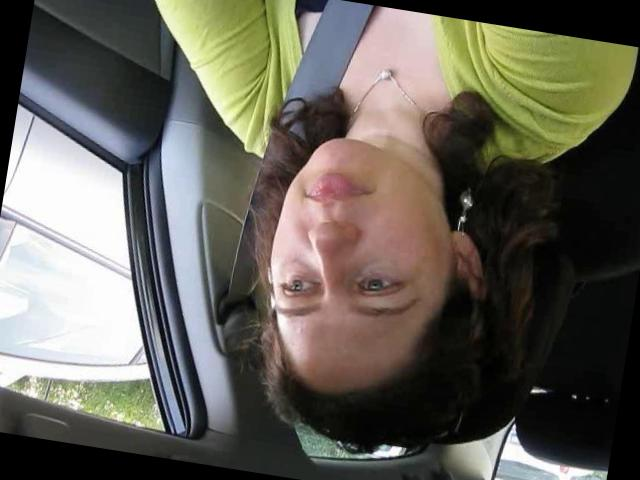eye_open: (354, 267, 408, 305), (274, 268, 322, 304)
face: (252, 127, 454, 354)
